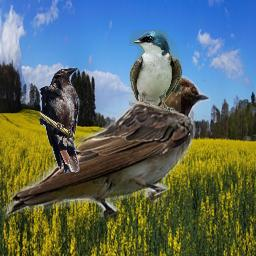Crow: (39, 66, 80, 173)
Swallow: (1, 72, 210, 224), (129, 30, 182, 112)
